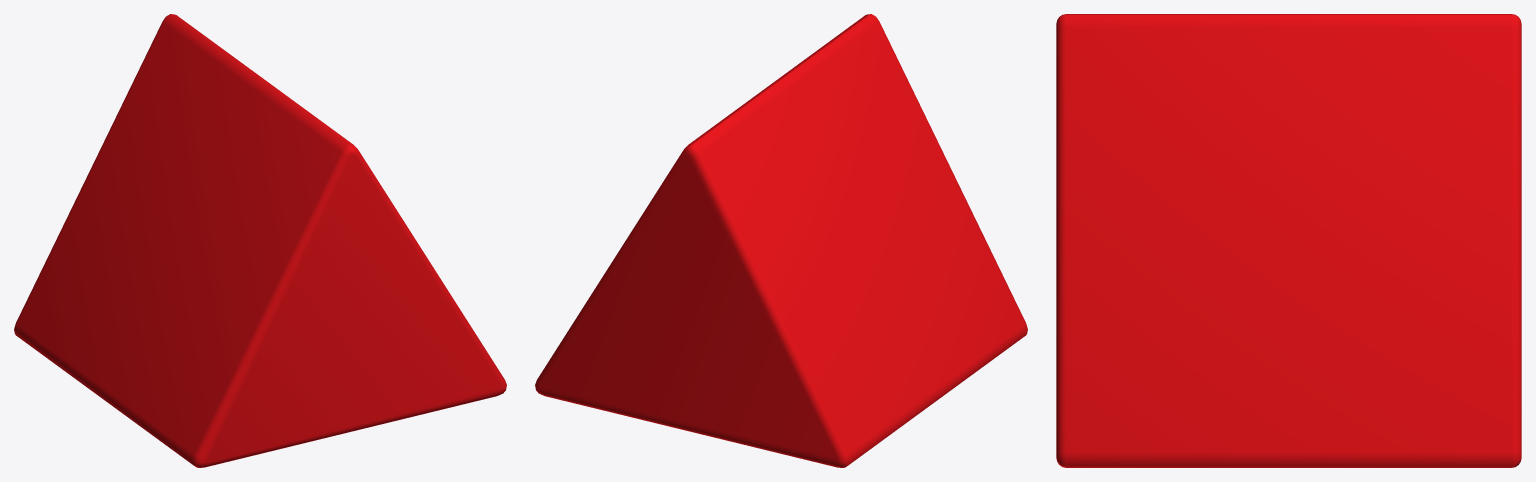
Rendered from Building block-Triangle.fbx.
3 renders of one model, left to right at view 1: azimuth 30°, elevation 25°; view 2: azimuth 150°, elevation 25°; view 3: azimuth 270°, elevation 25°, orthographic. The views are drawn at different scales.
Visible parts, largest first — view 1: Building block-Triangle; view 2: Building block-Triangle; view 3: Building block-Triangle.
Boxes of the visible parts, box(x1,y1,x2,y2) form: Building block-Triangle: box(14, 14, 506, 467); Building block-Triangle: box(535, 14, 1027, 467); Building block-Triangle: box(1056, 14, 1521, 467).
Bounding box in the file's own units: 194 × 170 × 198.
